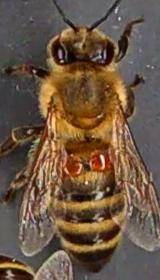varroa_mite: (84, 150, 112, 177), (55, 154, 85, 178)
